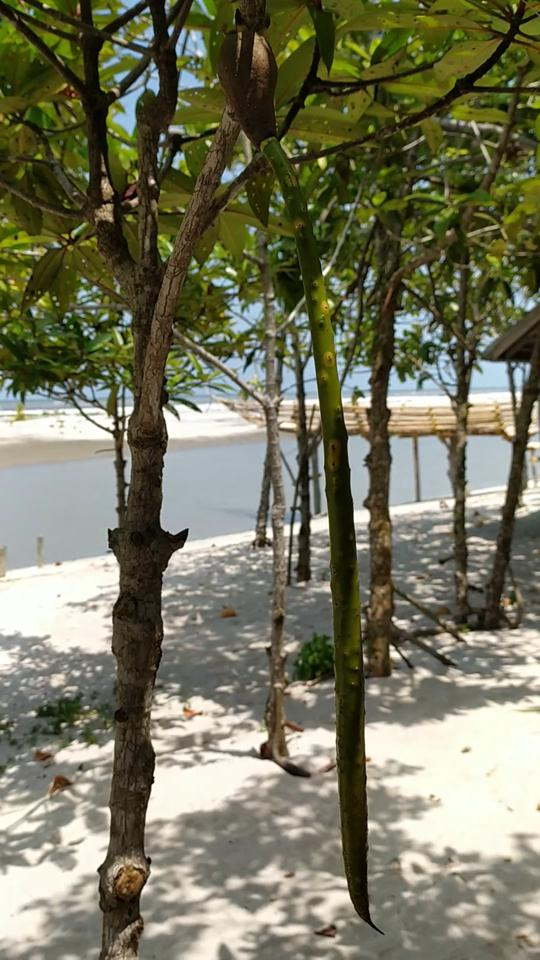setengah matang: (197, 18, 393, 944)
